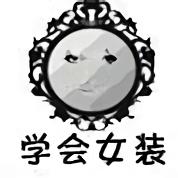dragon: (64, 48, 118, 94)
